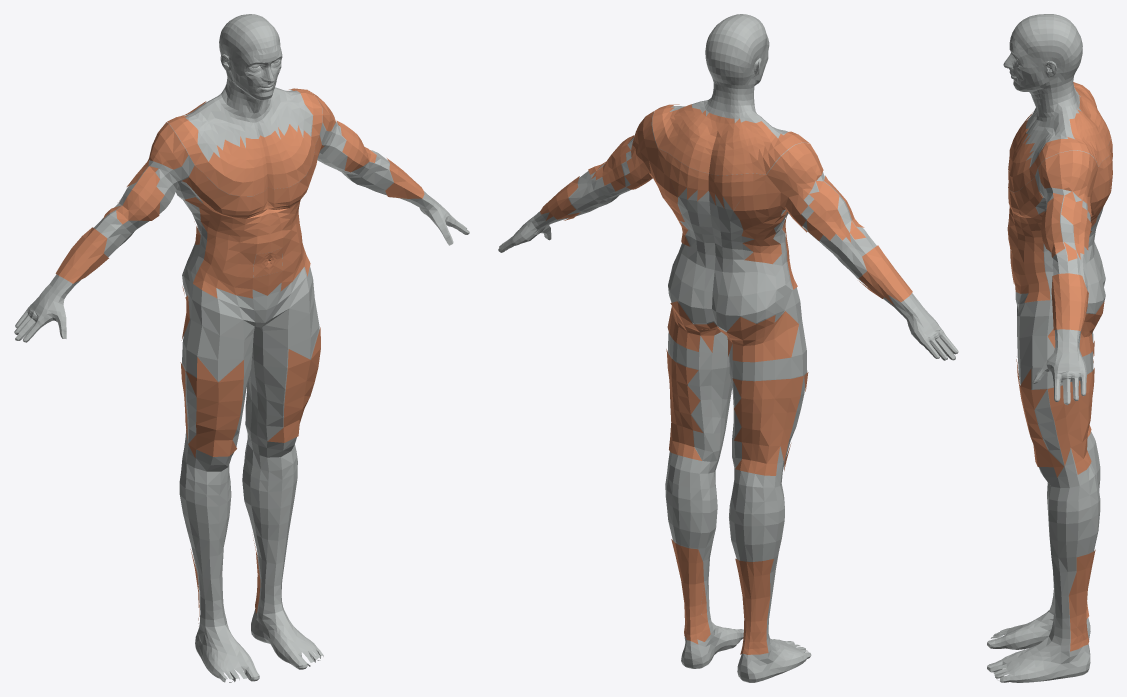
File: male-segmented.glb
The picture shows the model from 3 angles, left to right: view 1: azimuth 30°, elevation 25°; view 2: azimuth 150°, elevation 25°; view 3: azimuth 270°, elevation 25°; orthographic projection.
Visible parts, largest first — view 1: body_surface, muscle__chest, muscle__quads, muscle__abs, muscle__shoulders, muscle__biceps, muscle__forearms; view 2: body_surface, muscle__traps, muscle__hamstrings, muscle__calves, muscle__glutes, muscle__lats, muscle__triceps, muscle__forearms, muscle__shoulders; view 3: body_surface, muscle__traps, muscle__chest, muscle__hamstrings, muscle__shoulders, muscle__abs, muscle__forearms, muscle__calves, muscle__quads, muscle__triceps, muscle__biceps, muscle__glutes (+1 smaller).
Part boxes in pixels (x1,y1,x2,y2): body_surface: (14,14,469,682); muscle__chest: (182,124,324,257); muscle__quads: (185,327,320,457); muscle__abs: (193,207,310,298); muscle__shoulders: (149,88,335,169); muscle__biceps: (116,120,376,224); muscle__forearms: (55,158,424,283); body_surface: (498,14,958,682); muscle__traps: (626,104,815,213); muscle__hamstrings: (666,349,803,475); muscle__calves: (671,539,773,654); muscle__glutes: (667,301,798,362); muscle__lats: (625,148,808,264); muscle__triceps: (588,135,865,242); muscle__forearms: (540,176,912,305); muscle__shoulders: (635,104,823,188); body_surface: (987,14,1108,682); muscle__traps: (1067,82,1112,215); muscle__chest: (1007,112,1044,251); muscle__hamstrings: (1047,341,1094,474); muscle__shoulders: (1029,84,1098,191); muscle__abs: (1009,219,1050,302); muscle__forearms: (1051,273,1088,331); muscle__calves: (1068,549,1095,651); muscle__quads: (1016,359,1063,477); muscle__triceps: (1061,191,1091,261); muscle__biceps: (1041,193,1064,257); muscle__glutes: (1048,301,1104,356).
Size of the model in its own units: 1.49 by 2 by 0.3552.
